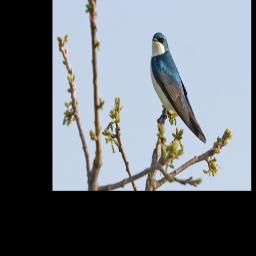Swallow: (147, 28, 209, 145)
